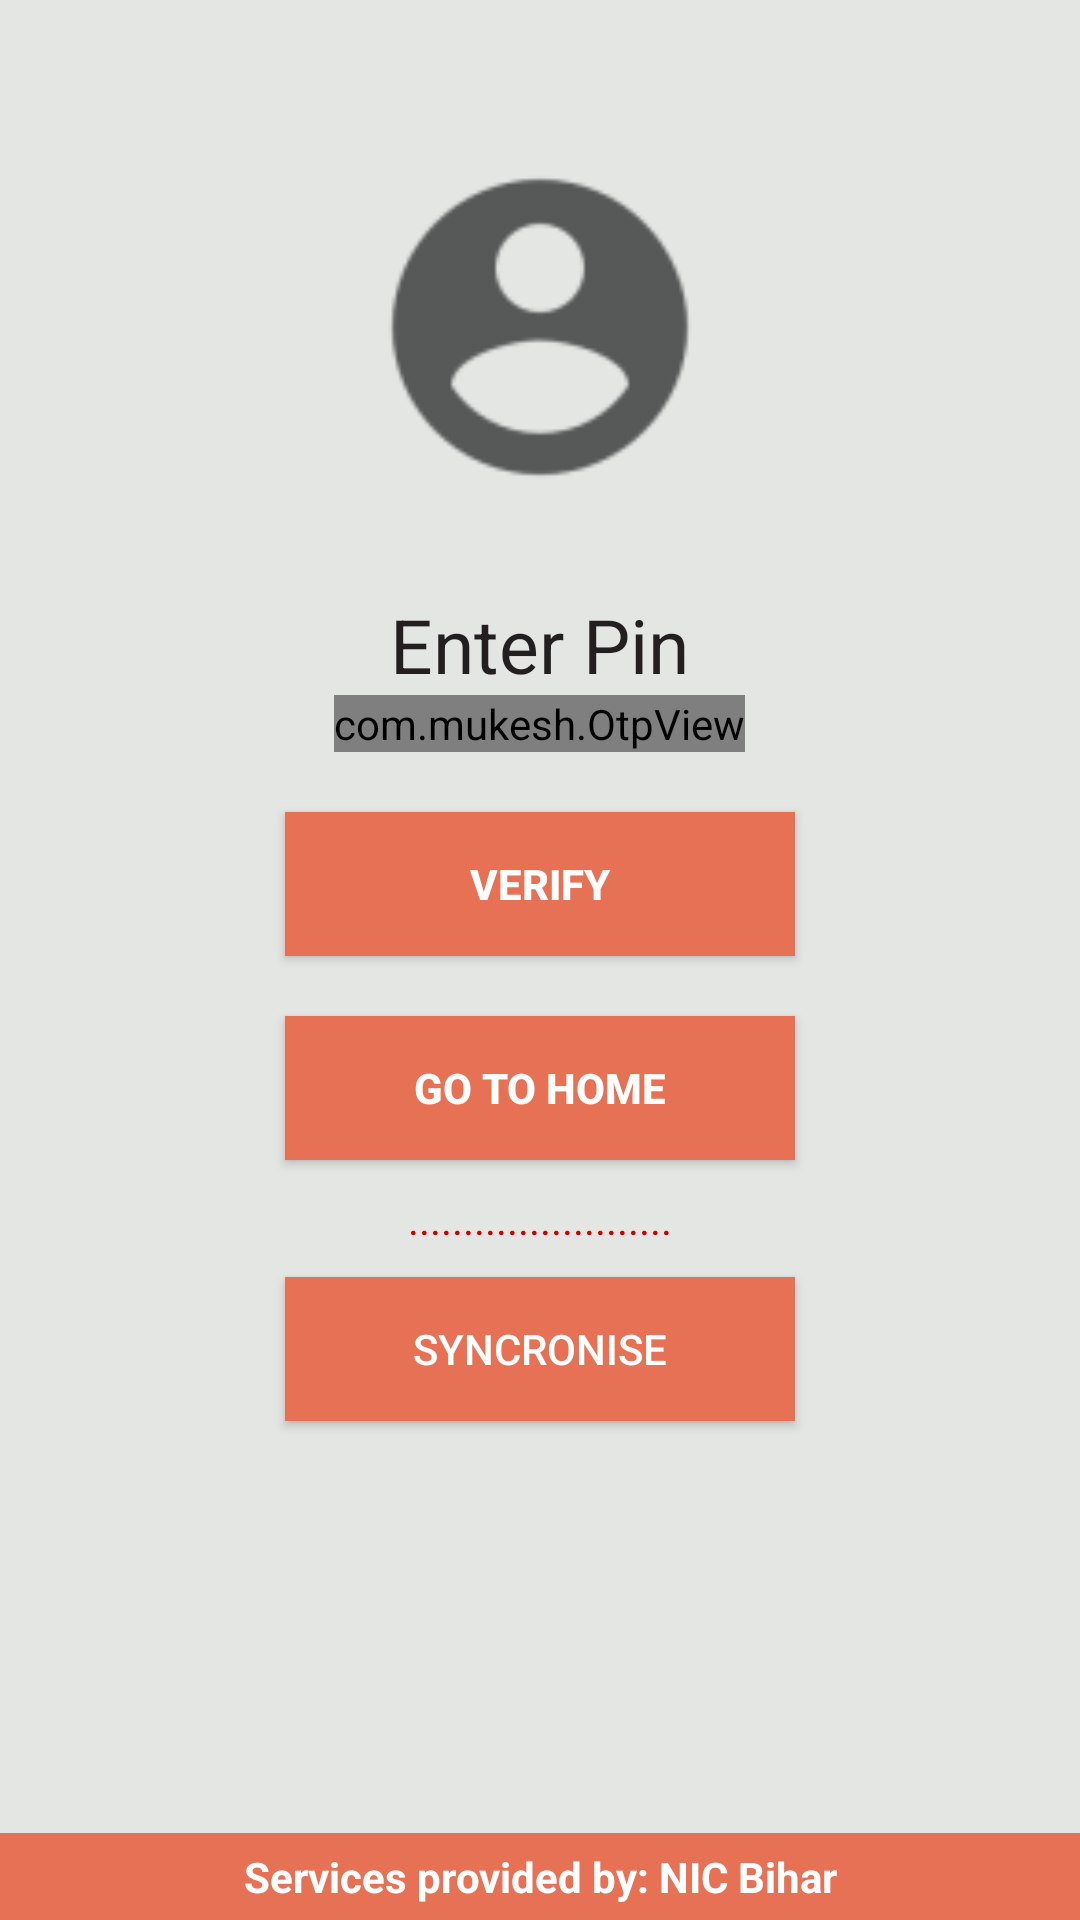

Icons on this 1080 x 1920 Android screen, each with its box as rect(x1, y1, x2, y2):
user: rect(391, 178, 689, 476)
